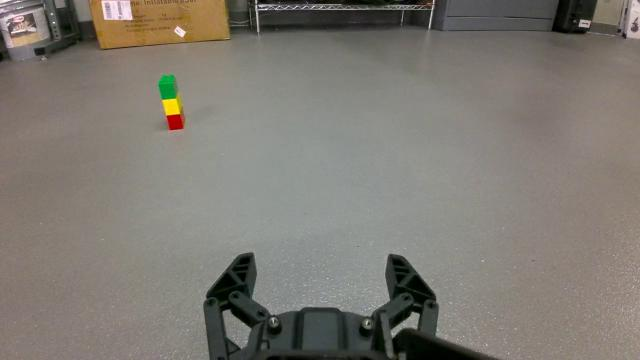lego: (157, 73, 188, 131)
